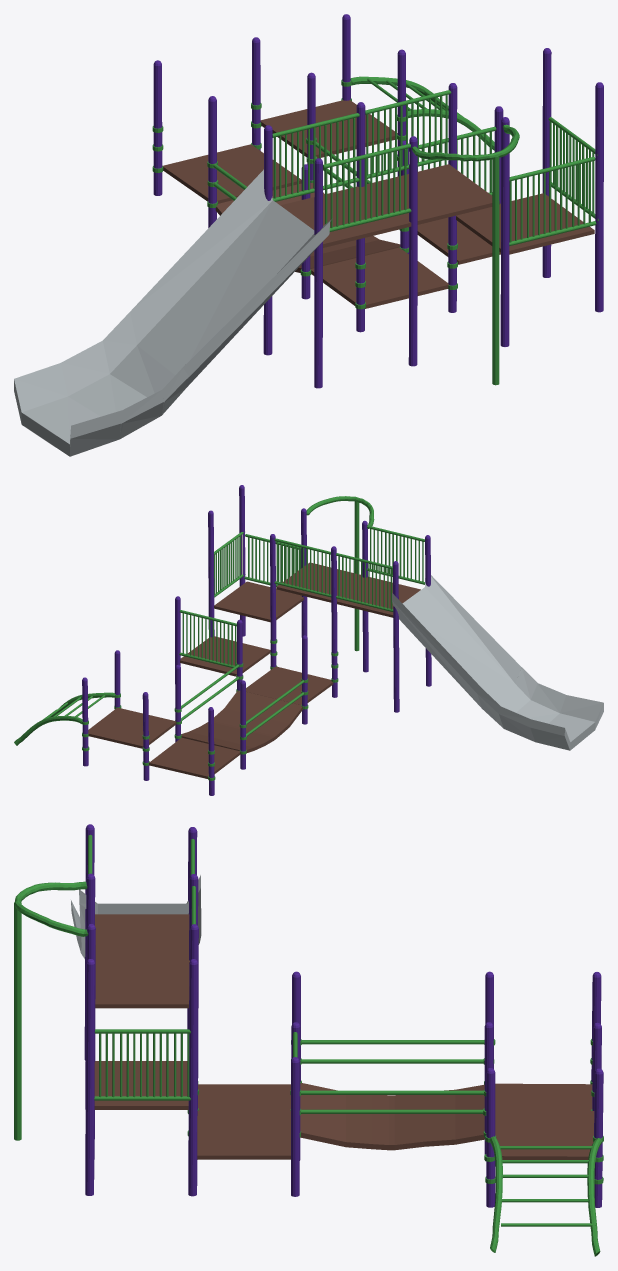
The picture shows the model from 3 angles, top to bottom: view 1: azimuth 30°, elevation 25°; view 2: azimuth 150°, elevation 25°; view 3: azimuth 270°, elevation 25°; orthographic projection. The views are drawn at different scales.
Parts seen in each view (by area): view 1: node_MeshObject455602176-PolyPaper21, node_MeshObject165188608-PolyPaper21; view 2: node_MeshObject455602176-PolyPaper21, node_MeshObject165188608-PolyPaper21; view 3: node_MeshObject455602176-PolyPaper21, node_MeshObject165188608-PolyPaper21.
Part boxes in pixels (left/top/right/bottom): node_MeshObject455602176-PolyPaper21: left=14, top=37, right=603, bottom=456; node_MeshObject165188608-PolyPaper21: left=152, top=14, right=494, bottom=231; node_MeshObject455602176-PolyPaper21: left=142, top=485, right=603, bottom=780; node_MeshObject165188608-PolyPaper21: left=14, top=525, right=424, bottom=795; node_MeshObject455602176-PolyPaper21: left=14, top=824, right=601, bottom=1196; node_MeshObject165188608-PolyPaper21: left=88, top=834, right=603, bottom=1256.
Size of the model in its own units: 6.94 by 2.51 by 5.35.
